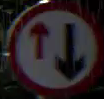Two way: (6, 0, 103, 95)
